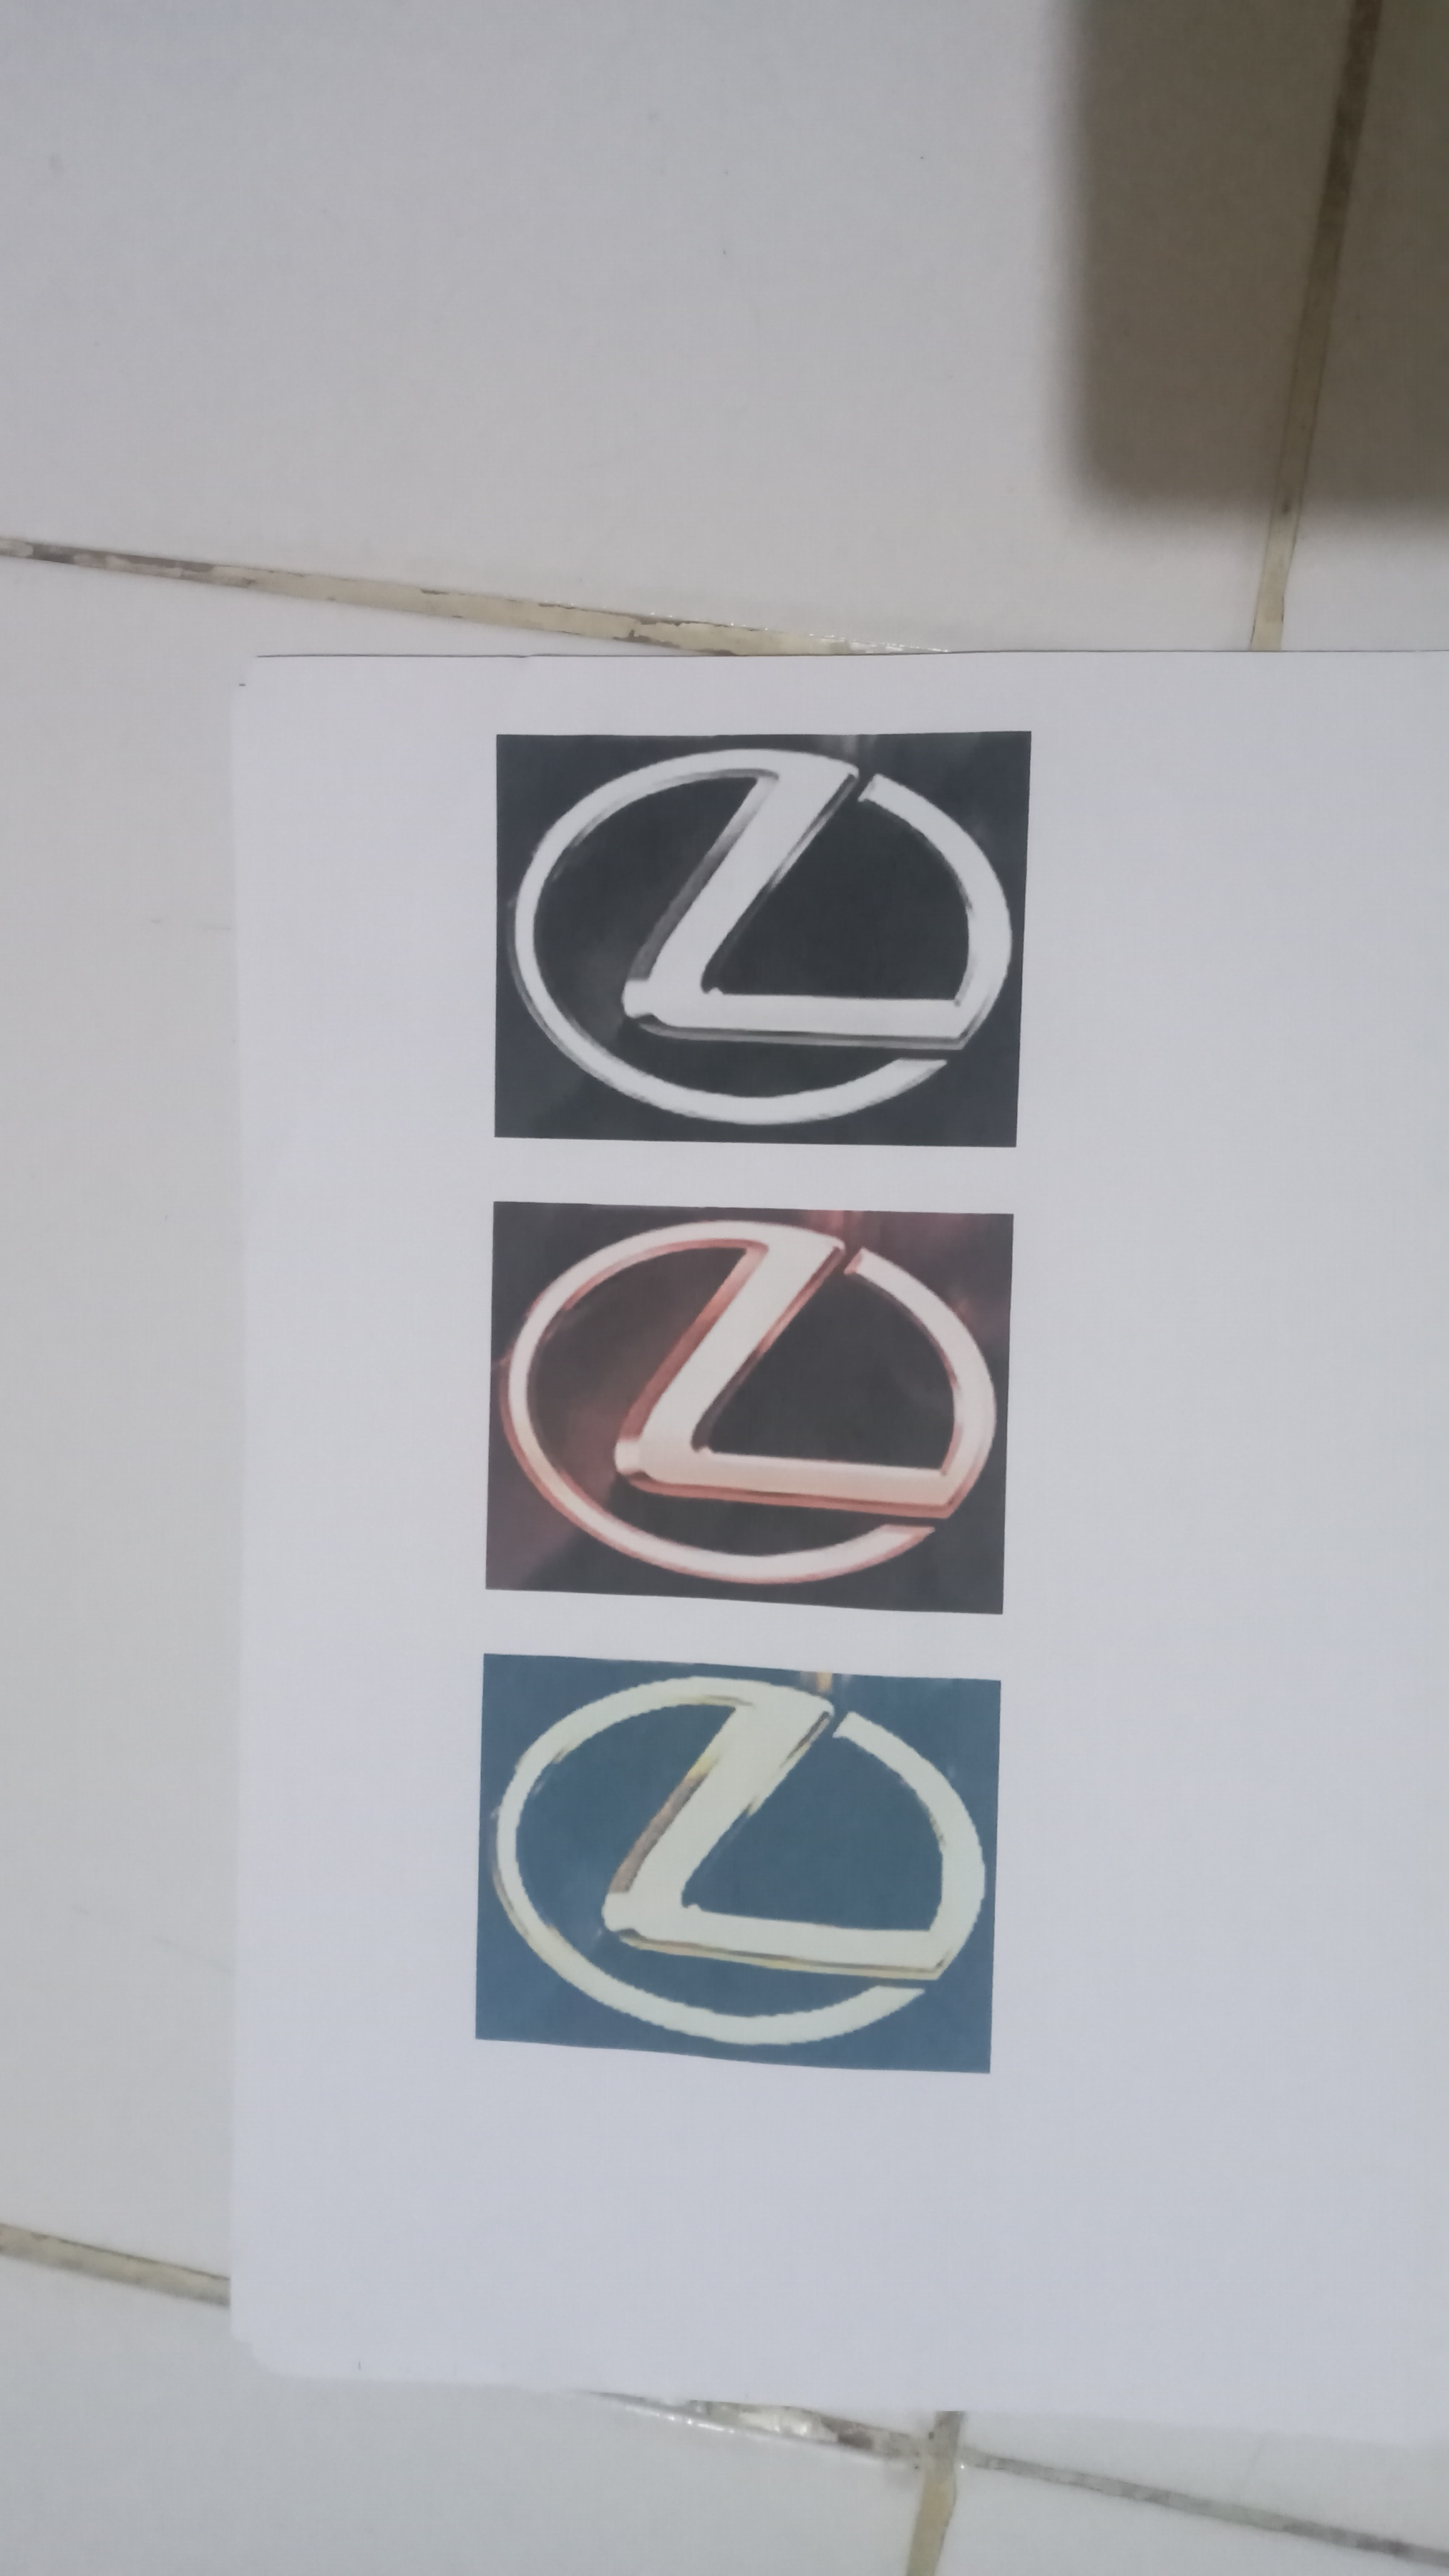Lexus: (487, 732, 1021, 1132), (487, 1660, 984, 2068), (495, 1207, 996, 1606)
